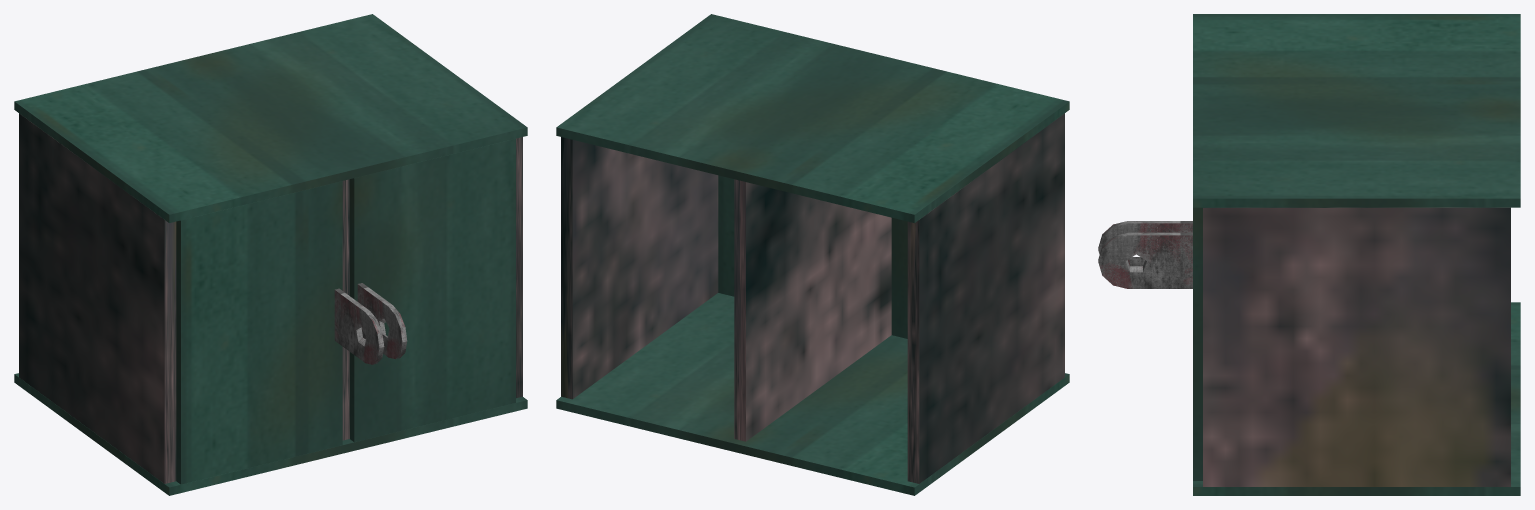
Rendered from Locker.fbx.
3 views of the same model, side by side, from view 1: azimuth 30°, elevation 25°; view 2: azimuth 150°, elevation 25°; view 3: azimuth 270°, elevation 25° (orthographic). The views are drawn at different scales.
Visible parts, largest first — view 1: Plane.001, Cube, Cube.001, Cube.002, Plane.003, Plane.002; view 2: Cube, Plane.001, Cube.001, Cube.002; view 3: Cube, Plane.001, Plane.002, Cube.002, Plane.003.
Boxes of the visible parts, x1,y1,x2,y2 form: Plane.001: [14, 14, 527, 495]; Cube: [19, 113, 522, 483]; Cube.001: [176, 181, 342, 484]; Cube.002: [349, 138, 515, 442]; Plane.003: [334, 288, 384, 364]; Plane.002: [357, 283, 407, 359]; Cube: [561, 113, 1064, 483]; Plane.001: [556, 14, 1069, 495]; Cube.001: [891, 217, 907, 338]; Cube.002: [718, 175, 734, 296]; Cube: [1203, 207, 1510, 486]; Plane.001: [1193, 14, 1520, 495]; Plane.002: [1098, 232, 1192, 288]; Cube.002: [1193, 207, 1202, 480]; Plane.003: [1098, 221, 1192, 266].
Size of the model in its own units: 983 by 737 by 949.
3 materials, 3 textured.
